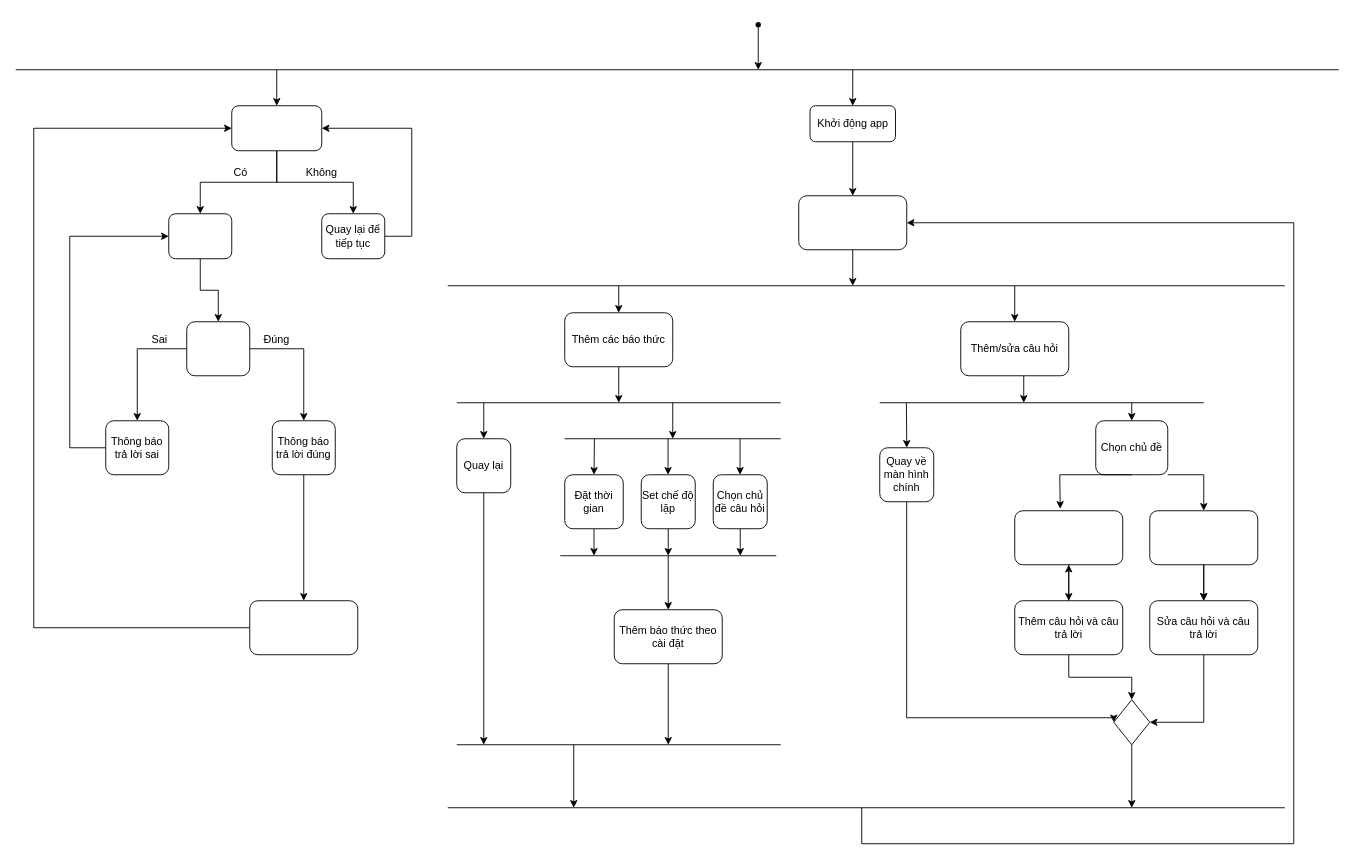
This 1355x867 diagram has some shape labels left out. Here are the shapes that lost their labels. From the top down, the centre of each, then its label:
At point (276, 128): "Chạy nền để check báo thức".
At point (200, 236): "Hiển thị câu hỏi".
At point (852, 222): "Màn hình chính <Hiện các báo thực đang có >".
At point (218, 348): "Kiểm tra câu trả lời".
At point (1068, 537): "Thêm".
At point (1203, 537): "Sửa".
At point (303, 627): "Kết thúc báo thức".
